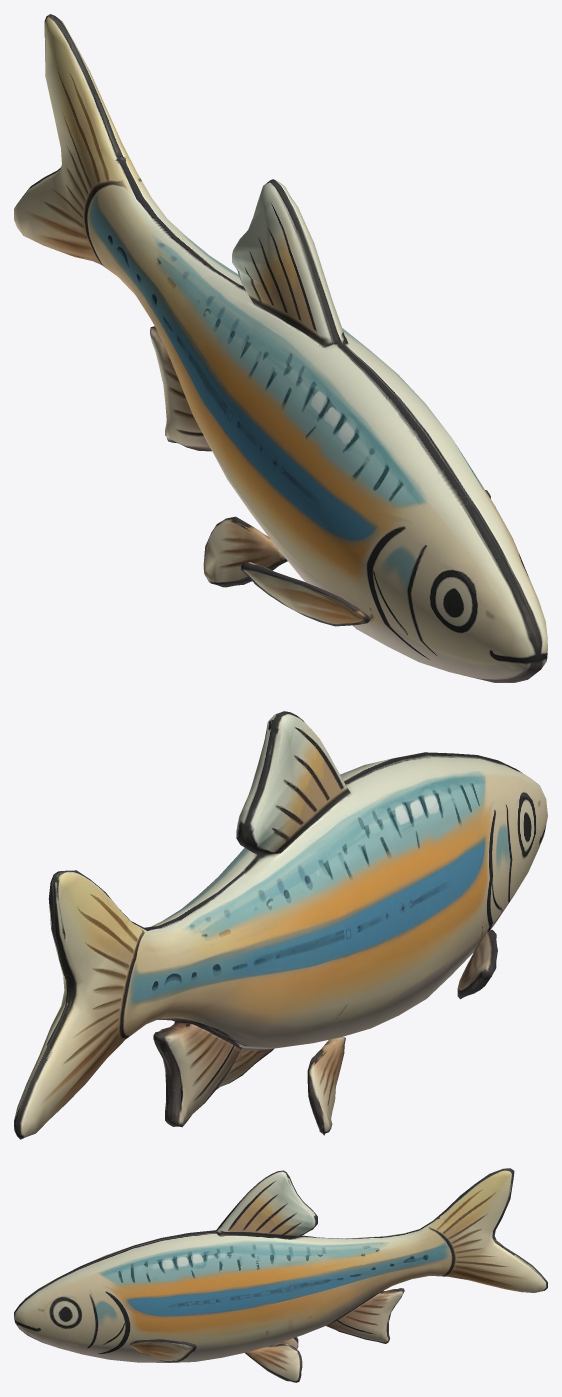
File: Pale_chub_01.fbx
The picture shows the model from 3 angles, top to bottom: view 1: azimuth 30°, elevation 25°; view 2: azimuth 150°, elevation 25°; view 3: azimuth 270°, elevation 25°; orthographic projection. The views are drawn at different scales.
Parts seen in each view (by area): view 1: Pale_chub_01; view 2: Pale_chub_01; view 3: Pale_chub_01.
Boxes of the visible parts, x1,y1,x2,y2 form: Pale_chub_01: (14,14,547,682); Pale_chub_01: (14,711,547,1139); Pale_chub_01: (14,1168,547,1382).
Size of the model in its own units: 27.54 by 42.38 by 99.8.
